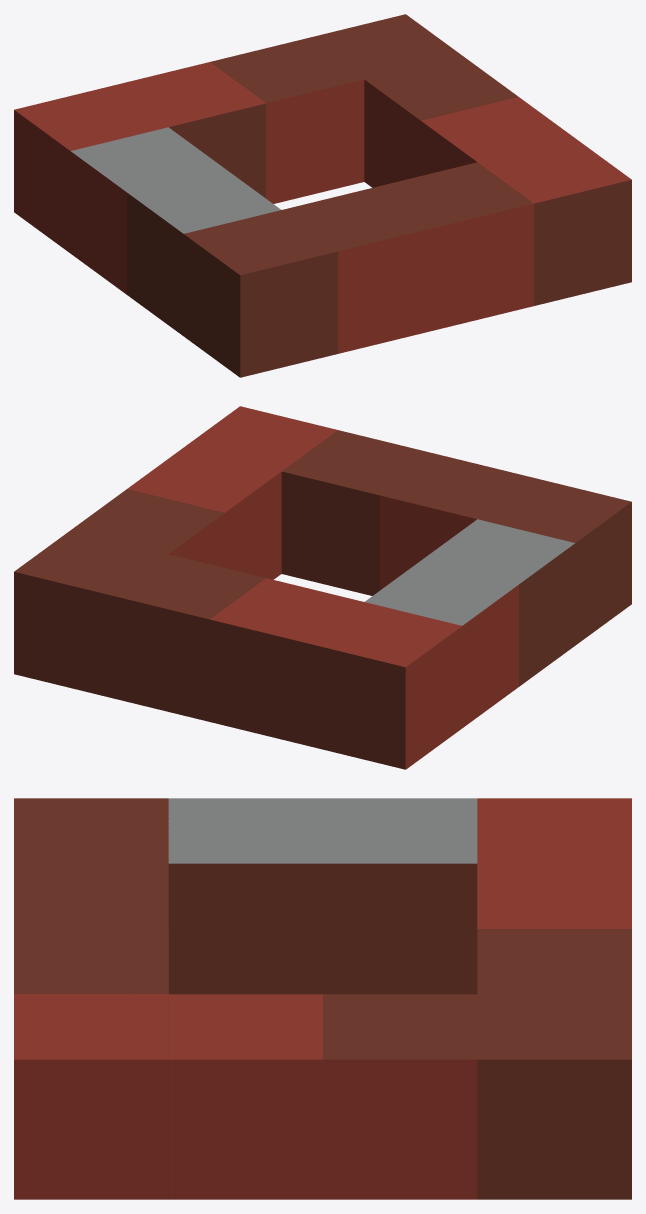
Rendered from clutter1.fbx.
The picture shows the model from 3 angles, top to bottom: view 1: azimuth 30°, elevation 25°; view 2: azimuth 150°, elevation 25°; view 3: azimuth 270°, elevation 25°; orthographic projection. The views are drawn at different scales.
Visible parts, largest first — view 1: cube_1, cube, cube_3, cube_2; view 2: cube, cube_1, cube_3, cube_2; view 3: cube_2, cube, cube_1, cube_3.
Part boxes in pixels (x1,y1,x2,y2): cube_1: (183, 138, 631, 377); cube: (14, 14, 461, 253); cube_3: (70, 127, 280, 335); cube_2: (364, 55, 574, 187); cube: (14, 530, 462, 769); cube_1: (184, 406, 631, 645); cube_3: (365, 519, 575, 727); cube_2: (71, 447, 281, 579); cube_2: (168, 994, 477, 1199); cube: (477, 798, 631, 1199); cube_1: (14, 798, 168, 1199); cube_3: (168, 798, 477, 994).
Bounding box in the file's own units: 25 × 6.25 × 25.
Materials: 1 (1 with a texture image).
